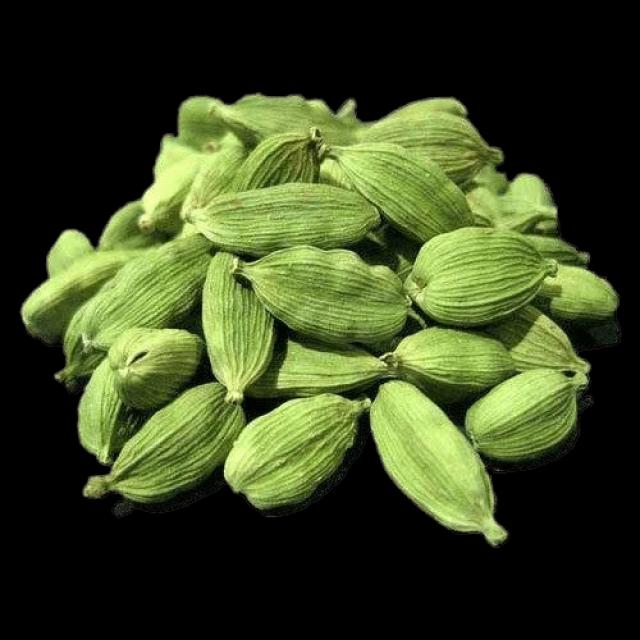Cardamom: (16, 77, 622, 552)
